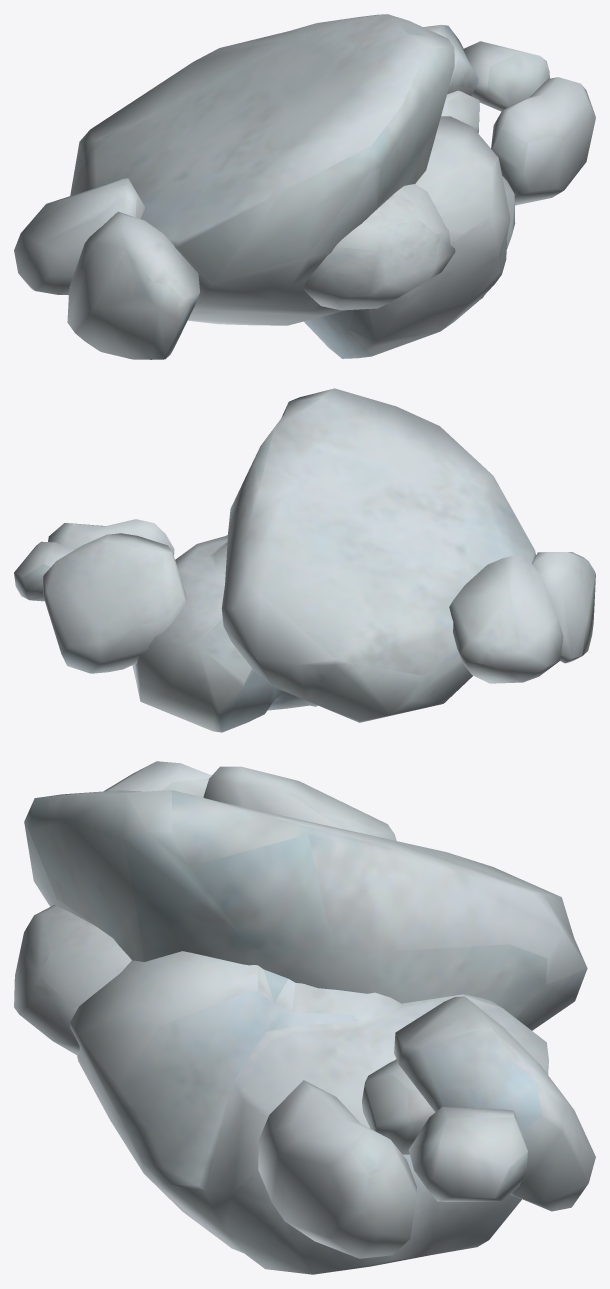
File: P_RockClumpClassic10.obj
3 views of the same model, one above another, from view 1: azimuth 30°, elevation 25°; view 2: azimuth 150°, elevation 25°; view 3: azimuth 270°, elevation 25° (orthographic). The views are drawn at different scales.
Size of the model in its own units: 7.29 by 4 by 4.8.
